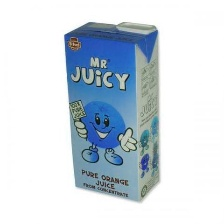carton: (60, 15, 168, 209)
